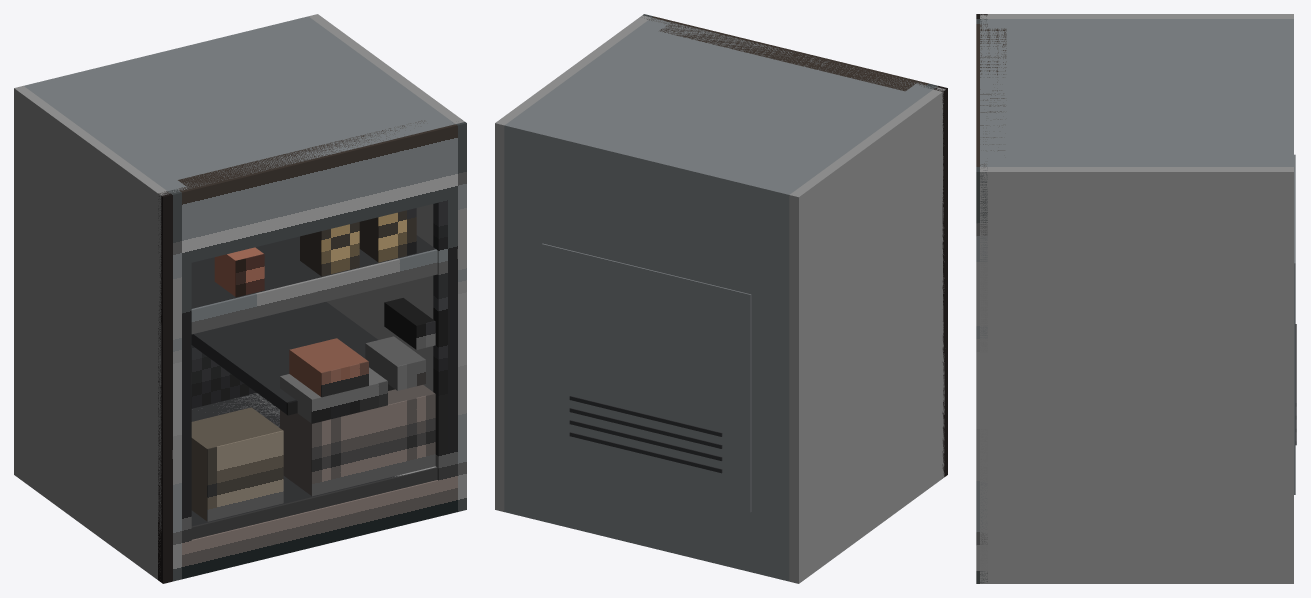
The model's file is CMU3DReduxAU14LACNMGequipmentvendor.glb.
3 renders of one model, left to right at view 1: azimuth 30°, elevation 25°; view 2: azimuth 150°, elevation 25°; view 3: azimuth 270°, elevation 25°, orthographic. The views are drawn at different scales.
Visible parts, largest first — view 1: left cabinet side, roof, upper metal header, left silver face rail, right silver face rail, lower plinth, lower strapped case original face, middle small shelf, upper merchandise shelf silver front edge, lower tan supply carton original face, right cabinet side, upper merchandise shelf (+19 smaller); view 2: rear cabinet wall, left cabinet side, rear service hatch, roof, right cabinet side, upper metal header, left silver face rail, rear ventilation 2, rear ventilation 3, rear ventilation 1, rear ventilation 4; view 3: right cabinet side, roof, right silver face rail, rear cabinet wall, left cabinet side, upper metal header, rear service hatch.
Boxes of the visible parts, x1,y1,x2,y2 form: left cabinet side: (14,86,169,579); roof: (31,21,455,193); upper metal header: (178,120,438,262); left silver face rail: (158,187,191,583); right silver face rail: (433,122,466,516); lower plinth: (191,480,438,576); lower strapped case original face: (311,393,435,496); middle small shelf: (191,302,377,414); upper merchandise shelf silver front edge: (191,249,437,334); lower tan supply carton original face: (207,430,283,521); right cabinet side: (309,14,464,391); upper merchandise shelf: (191,235,435,308); rear cabinet wall: (504,120,795,581); left cabinet side: (789,87,945,583); rear service hatch: (541,243,751,512); roof: (512,17,936,189); right cabinet side: (495,15,651,511); upper metal header: (659,21,918,91); left silver face rail: (917,81,947,477); rear ventilation 2: (569,408,722,448); rear ventilation 3: (569,420,722,460); rear ventilation 1: (569,396,722,436); rear ventilation 4: (569,432,722,473); right cabinet side: (980,167,1293,583); roof: (980,19,1278,166); right silver face rail: (976,157,987,583); rear cabinet wall: (1279,19,1293,166); left cabinet side: (980,14,1293,18); upper metal header: (976,28,1006,157); rear service hatch: (1294,154,1295,494).
Bounding box in the file's own units: 1 × 1.22 × 0.857.
Materials: 28 (17 with a texture image).
